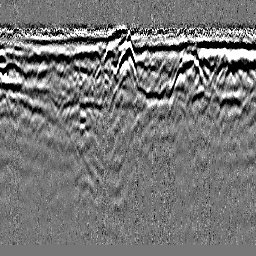cavity: (115, 39, 138, 75)
